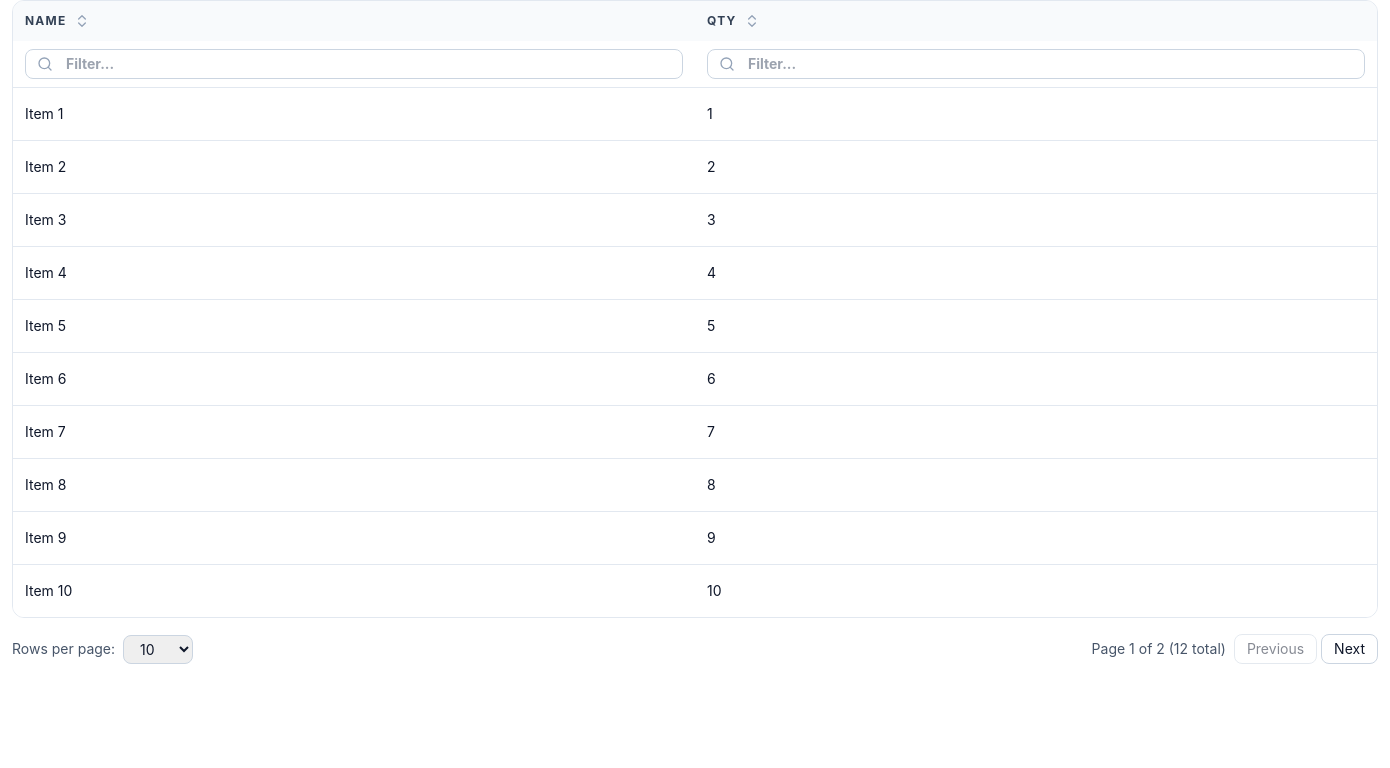
Test case: DataTable › shows pagination controls when needed
Expected: the text "Page 1 of 2 (12 total)" is shown, [1092, 639, 1226, 659]
Click the button "Next" at (1350, 649), box [1321, 634, 1378, 664]
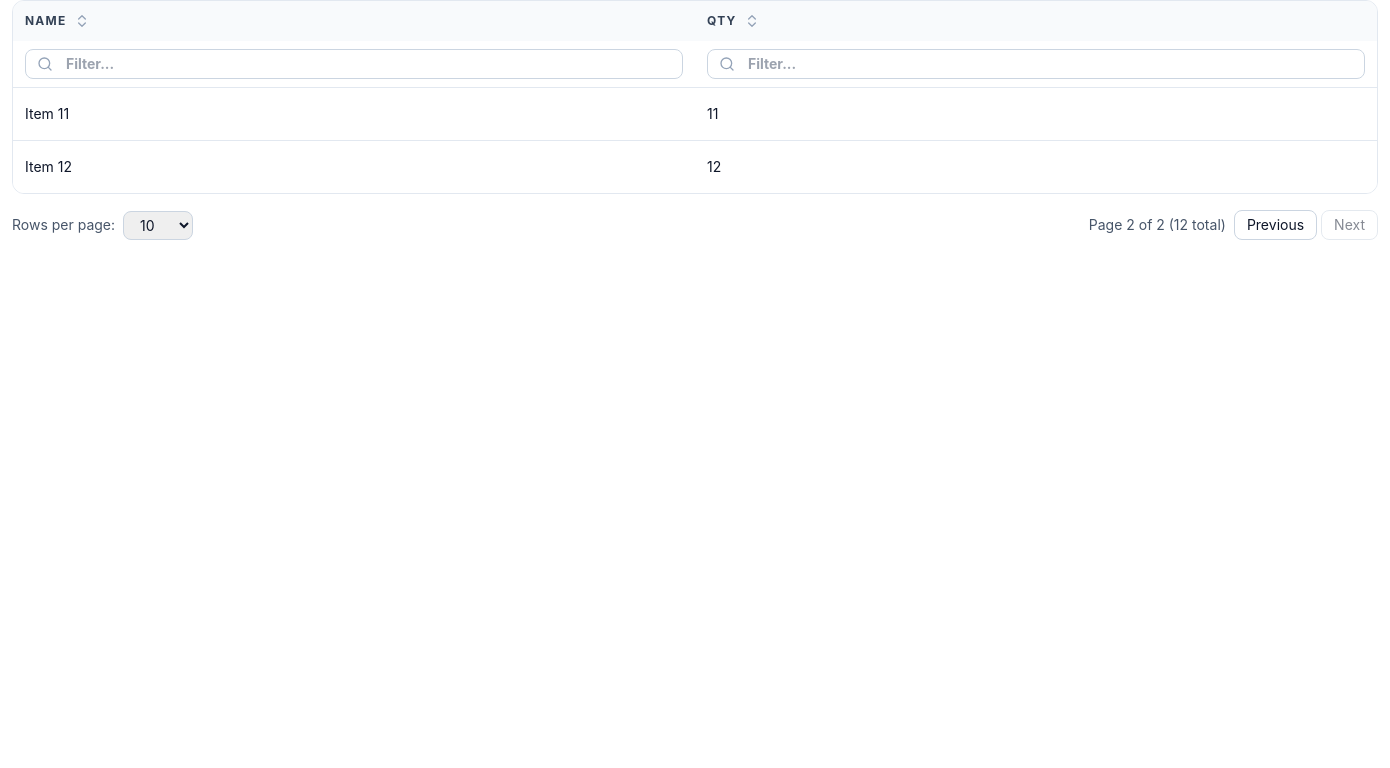
Result: the text "Page 2 of 2 (12 total)" is shown at [1089, 215, 1226, 235]
